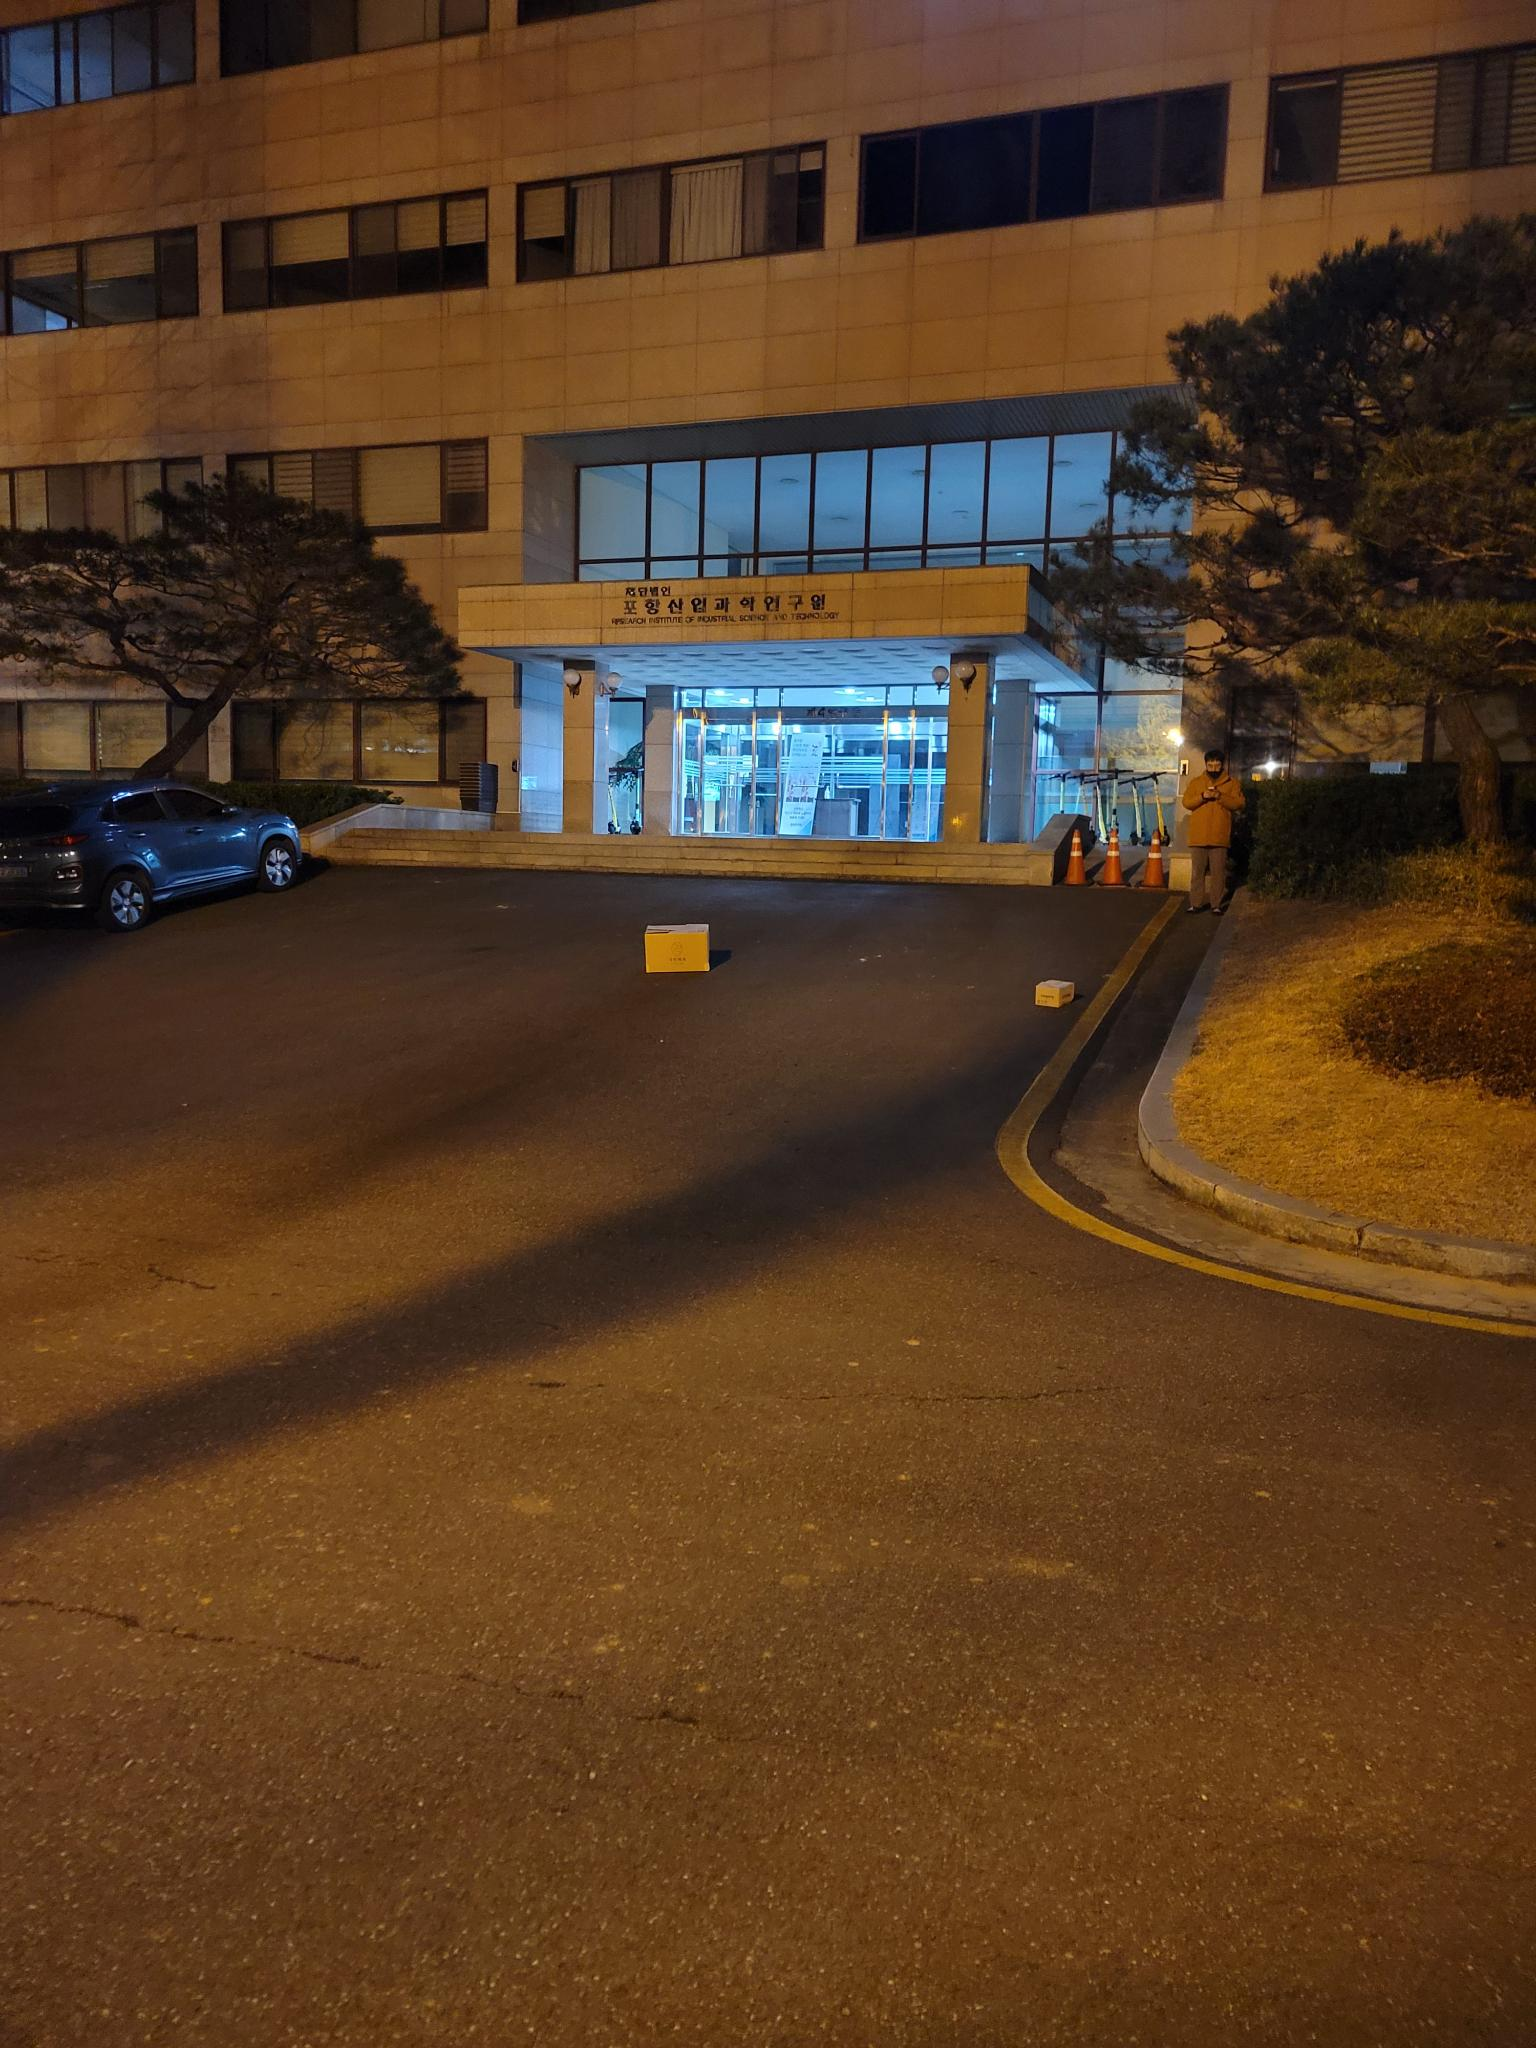Box: (644, 914, 720, 977), (1036, 963, 1083, 1016)
